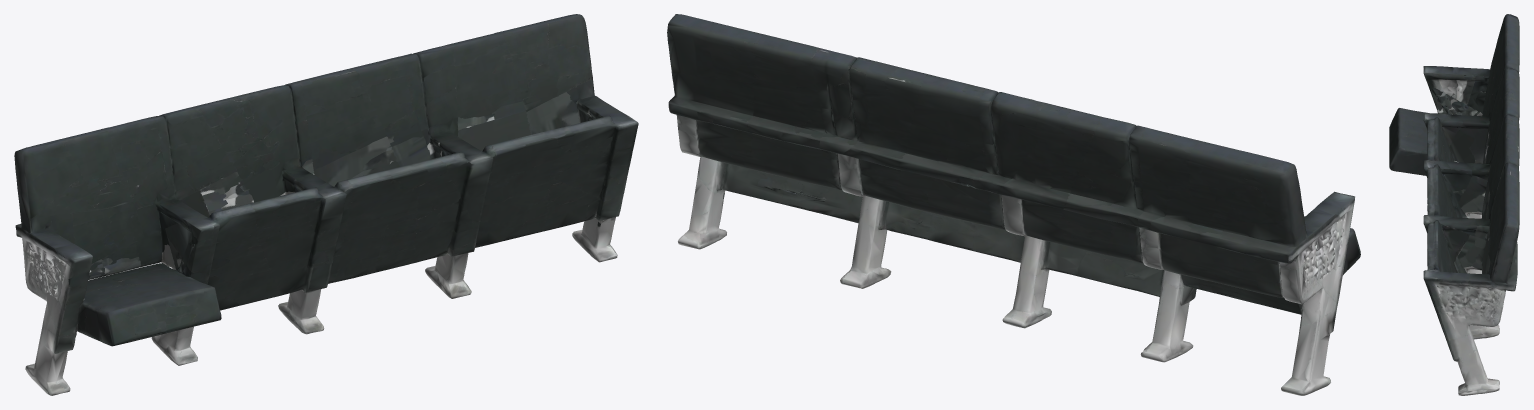
File: AUDIA.compressed.glb
3 views of the same model, side by side, from view 1: azimuth 30°, elevation 25°; view 2: azimuth 150°, elevation 25°; view 3: azimuth 270°, elevation 25° (orthographic). The views are drawn at different scales.
Visible parts, largest first — view 1: tmp8oe1kgk2obj; view 2: tmp8oe1kgk2obj; view 3: tmp8oe1kgk2obj.
Boxes of the visible parts, x1=… form: tmp8oe1kgk2obj: x1=14, y1=14, x2=638, y2=395; tmp8oe1kgk2obj: x1=667, y1=14, x2=1360, y2=395; tmp8oe1kgk2obj: x1=1389, y1=14, x2=1519, y2=395.
Bounding box in the file's own units: 0.9995 × 0.3745 × 0.2583.
1 material, 1 textured.
